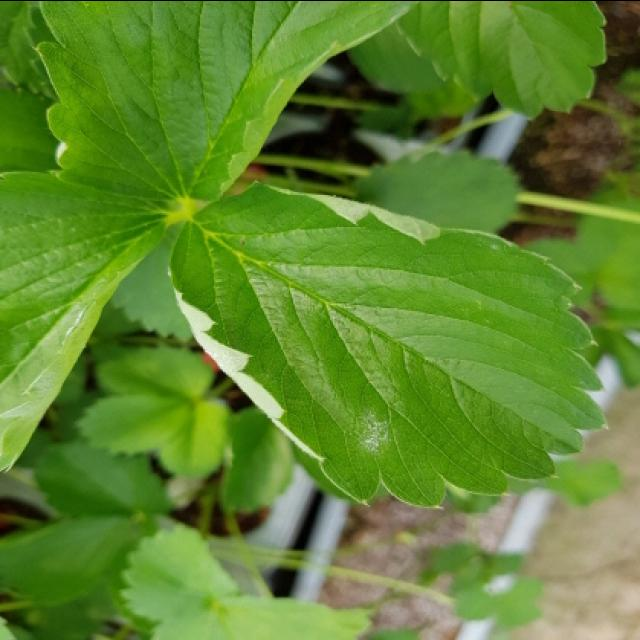Powdery Mildew Leaf: (167, 180, 607, 509)
